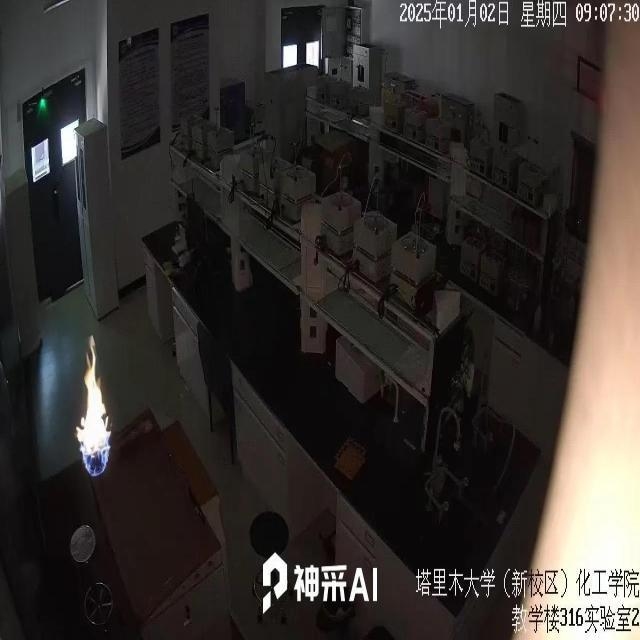smoke: (74, 340, 114, 470)
